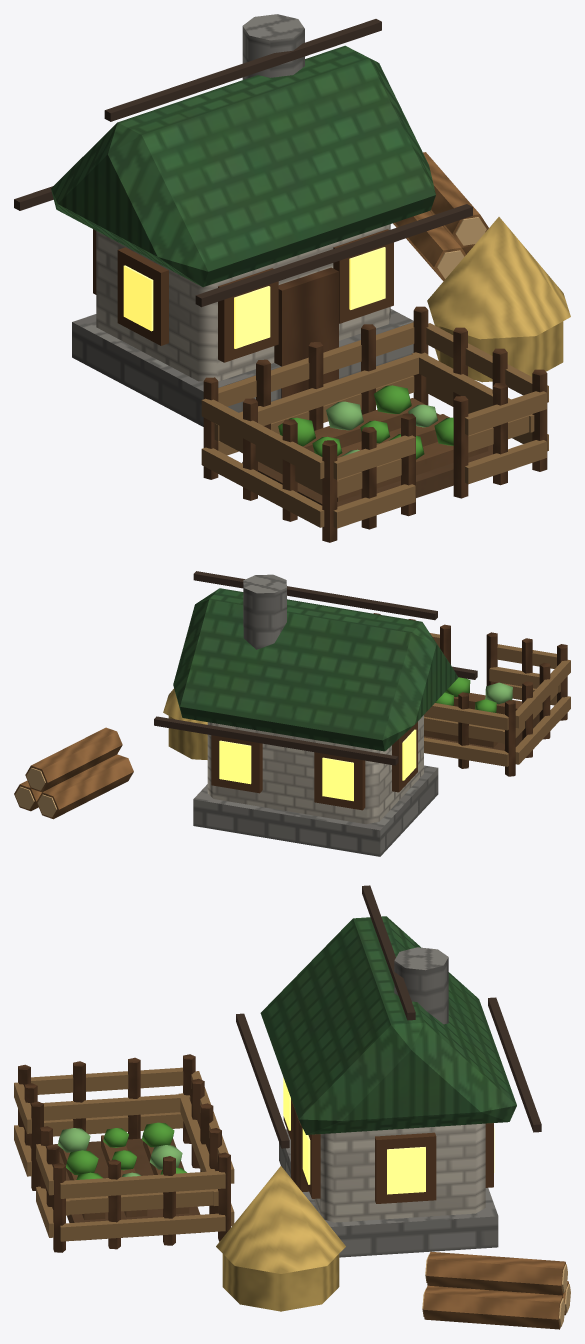
File: homestead_green.glb
The picture shows the model from 3 angles, top to bottom: view 1: azimuth 30°, elevation 25°; view 2: azimuth 150°, elevation 25°; view 3: azimuth 270°, elevation 25°; orthographic projection. The views are drawn at different scales.
Visible parts, largest first — view 1: homestead_green; view 2: homestead_green; view 3: homestead_green.
Boxes of the visible parts, bbox=[...] form: homestead_green: bbox=[14, 14, 570, 542]; homestead_green: bbox=[14, 571, 570, 856]; homestead_green: bbox=[14, 885, 570, 1329].
Size of the model in its own units: 0.4897 by 0.2998 by 0.5682.
2 materials, 1 textured.
